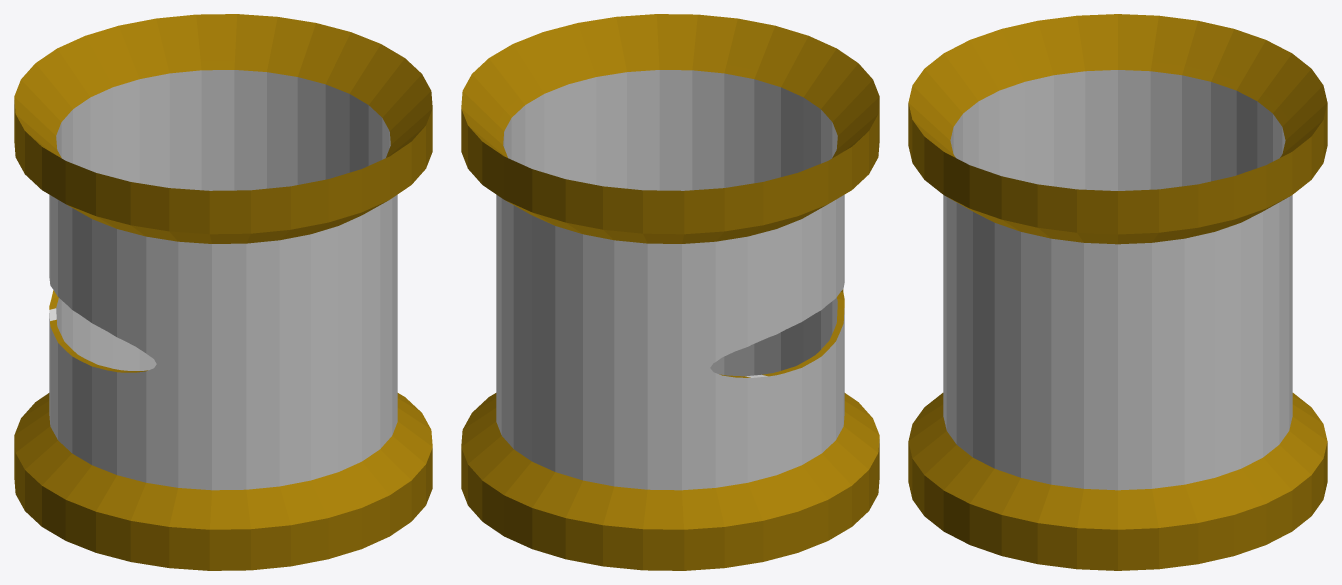
Rendered from tubefente.fbx.
3 views of the same model, side by side, from view 1: azimuth 30°, elevation 25°; view 2: azimuth 150°, elevation 25°; view 3: azimuth 270°, elevation 25° (orthographic).
Visible parts, largest first — view 1: Cylinder; view 2: Cylinder; view 3: Cylinder.
Boxes of the visible parts, x1=… form: Cylinder: x1=14, y1=14, x2=432, y2=570; Cylinder: x1=461, y1=14, x2=879, y2=570; Cylinder: x1=908, y1=14, x2=1327, y2=570.
Size of the model in its own units: 240 by 240 by 240.
